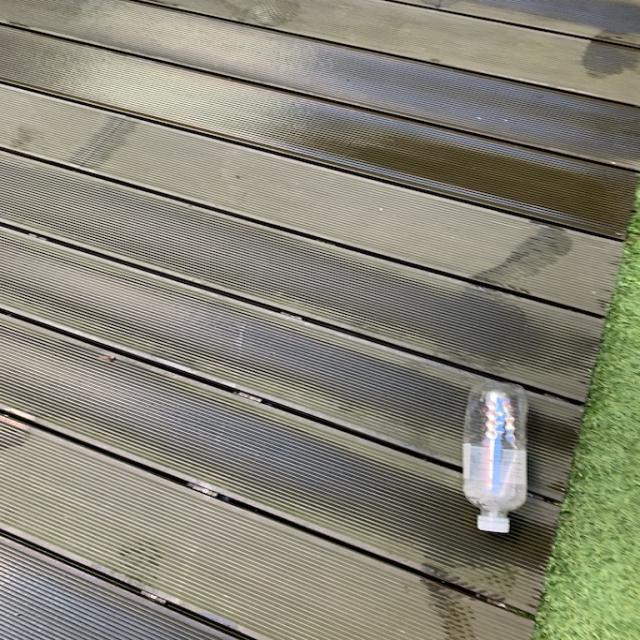Waste: (464, 382, 529, 534)
